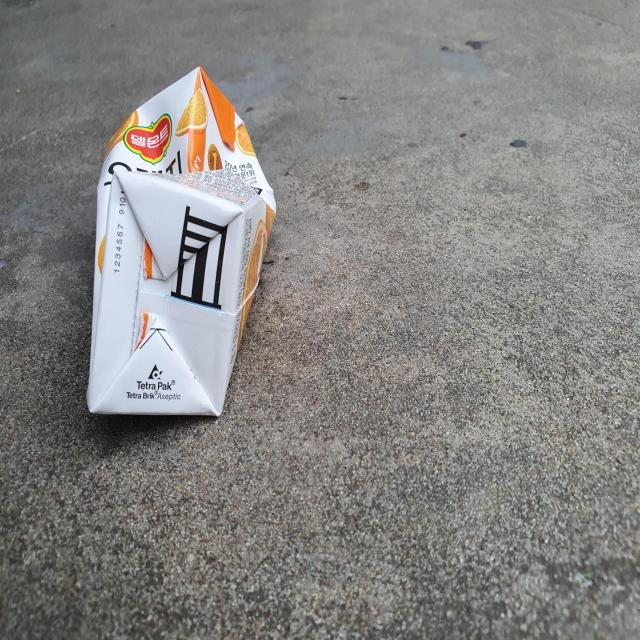paperpack: (86, 66, 276, 417)
